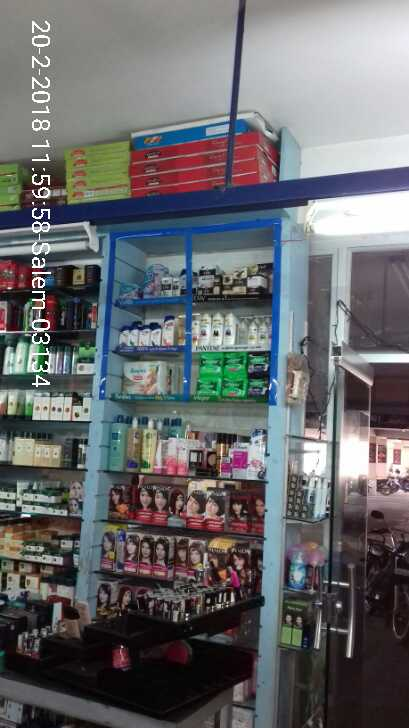venus: (143, 265, 162, 297), (119, 281, 143, 297)
